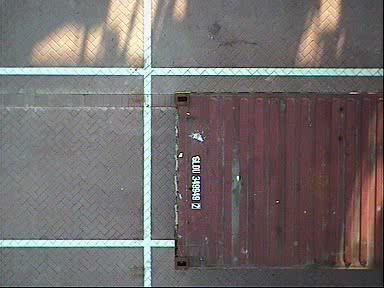groundmarker_2: (176, 133, 231, 226)
